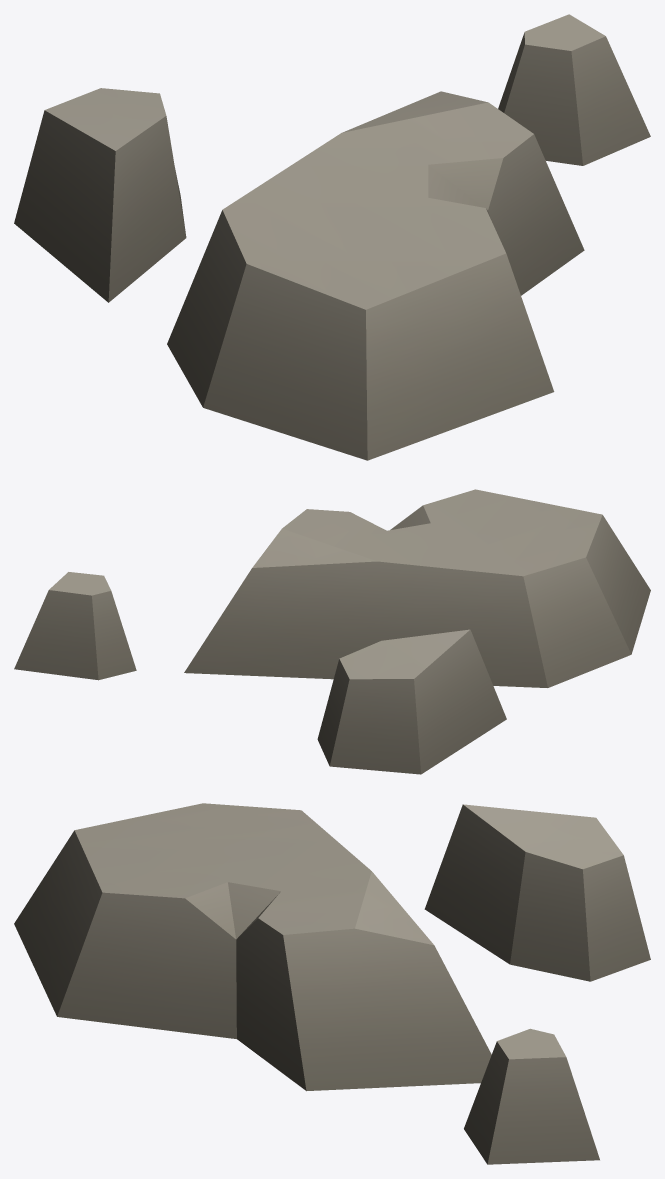
Rendered from Rock_Cluster_2A.fbx.
3 views of the same model, one above another, from view 1: azimuth 30°, elevation 25°; view 2: azimuth 150°, elevation 25°; view 3: azimuth 270°, elevation 25° (orthographic). The views are drawn at different scales.
Visible parts, largest first — view 1: Rock_Cluster_2A; view 2: Rock_Cluster_2A; view 3: Rock_Cluster_2A.
Part boxes in pixels (left/top/right/bottom): Rock_Cluster_2A: left=14, top=14, right=650, bottom=460; Rock_Cluster_2A: left=14, top=489, right=650, bottom=774; Rock_Cluster_2A: left=14, top=803, right=650, bottom=1164.
Size of the model in its own units: 1.02 by 0.2302 by 1.01.
